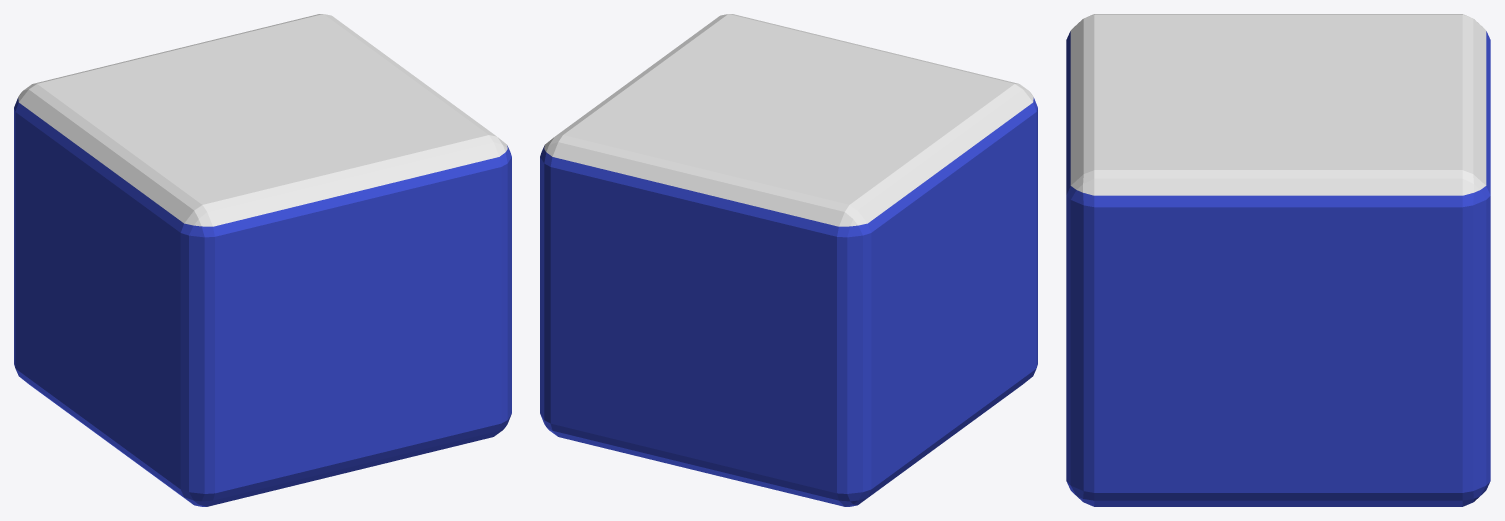
The model's file is foodcrate.fbx.
3 views of the same model, side by side, from view 1: azimuth 30°, elevation 25°; view 2: azimuth 150°, elevation 25°; view 3: azimuth 270°, elevation 25° (orthographic). The views are drawn at different scales.
Visible parts, largest first — view 1: Box, Lid; view 2: Box, Lid; view 3: Box, Lid.
Part boxes in pixels (x1,y1,x2,y2): Box: (14,97,511,506); Lid: (18,14,507,226); Box: (540,97,1037,506); Lid: (544,14,1033,226); Box: (1066,31,1490,506); Lid: (1070,14,1486,195).
Size of the model in its own units: 64 by 56 by 64.
